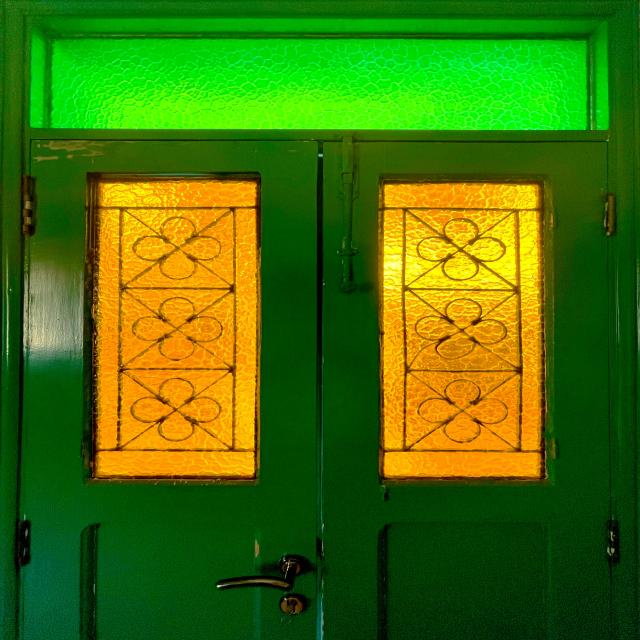door-handle: (216, 556, 305, 591)
